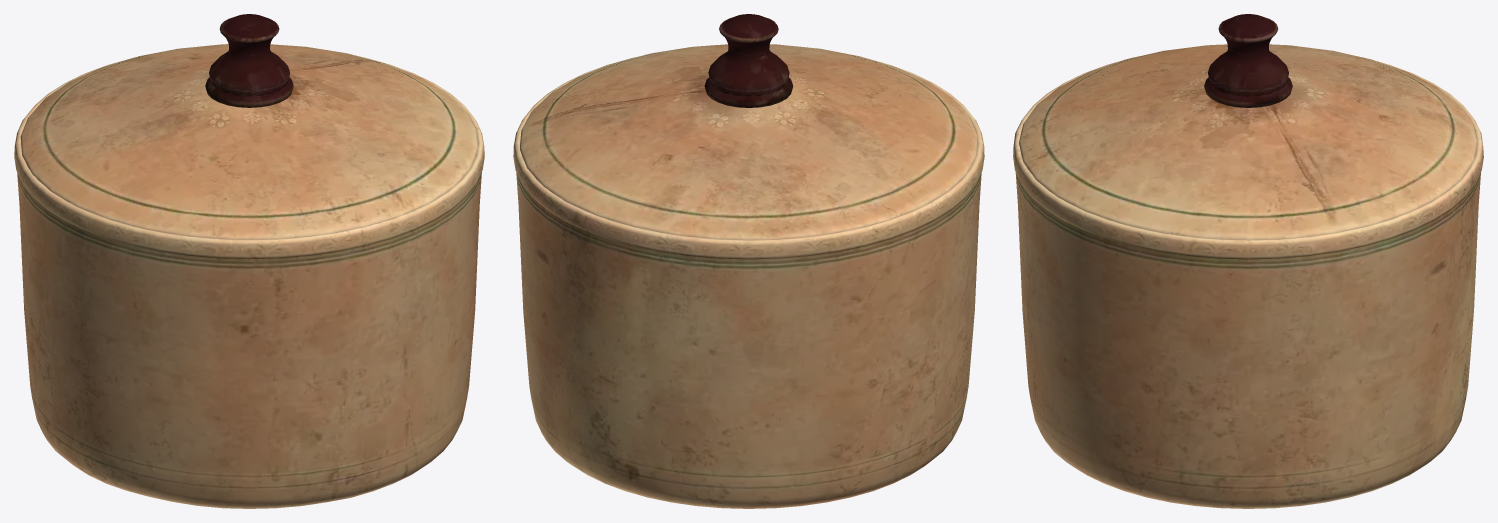
File: brass_pot_01.glb
The picture shows the model from 3 angles, left to right: view 1: azimuth 30°, elevation 25°; view 2: azimuth 150°, elevation 25°; view 3: azimuth 270°, elevation 25°; orthographic projection.
Parts seen in each view (by area): view 1: brass_pot_01; view 2: brass_pot_01; view 3: brass_pot_01.
Boxes of the visible parts, <box> form: brass_pot_01: <box>14,14,484,508</box>; brass_pot_01: <box>513,14,984,508</box>; brass_pot_01: <box>1013,14,1483,508</box>.
Bounding box in the file's own units: 0.3019 × 0.2909 × 0.3017.
Materials: 1 (1 with a texture image).
